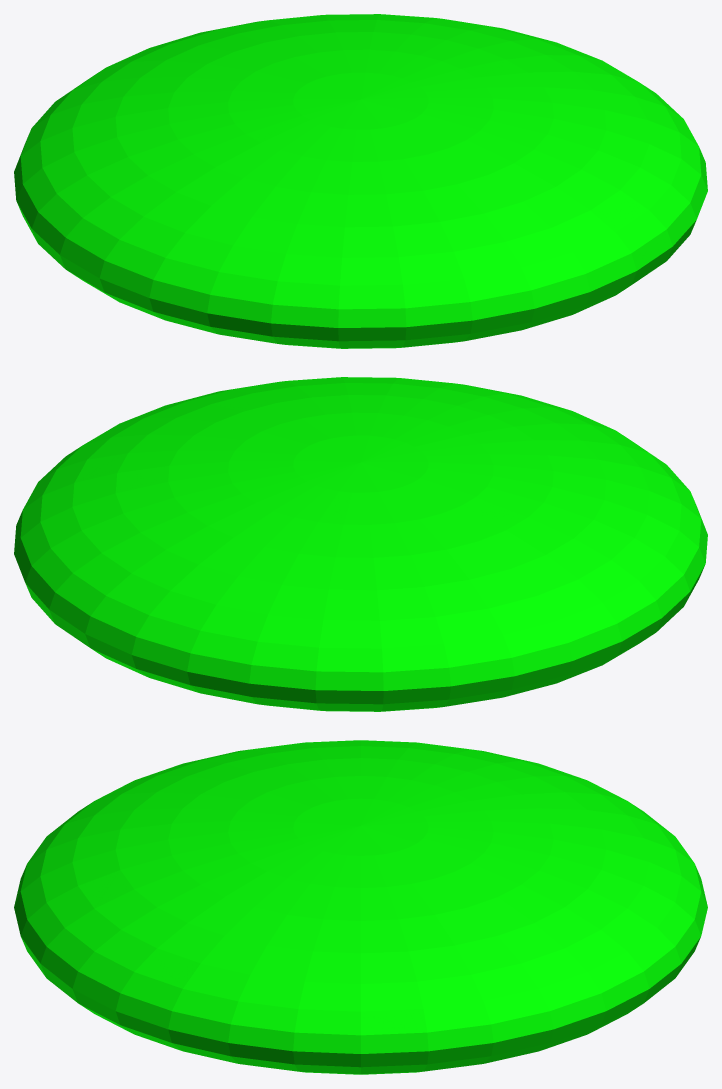
File: recoveryPoint.obj
3 views of the same model, one above another, from view 1: azimuth 30°, elevation 25°; view 2: azimuth 150°, elevation 25°; view 3: azimuth 270°, elevation 25° (orthographic).
Visible parts, largest first — view 1: 球; view 2: 球; view 3: 球.
Part boxes in pixels (x1,y1,x2,y2): 球: (14, 14, 707, 348); 球: (14, 377, 707, 711); 球: (14, 740, 707, 1074).
Bounding box in the file's own units: 2 × 0.5195 × 2.
1 material, 1 textured.
